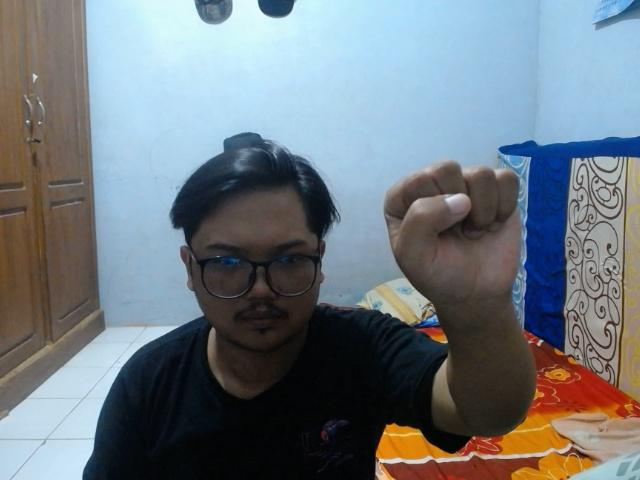Grab: (379, 153, 528, 314)
